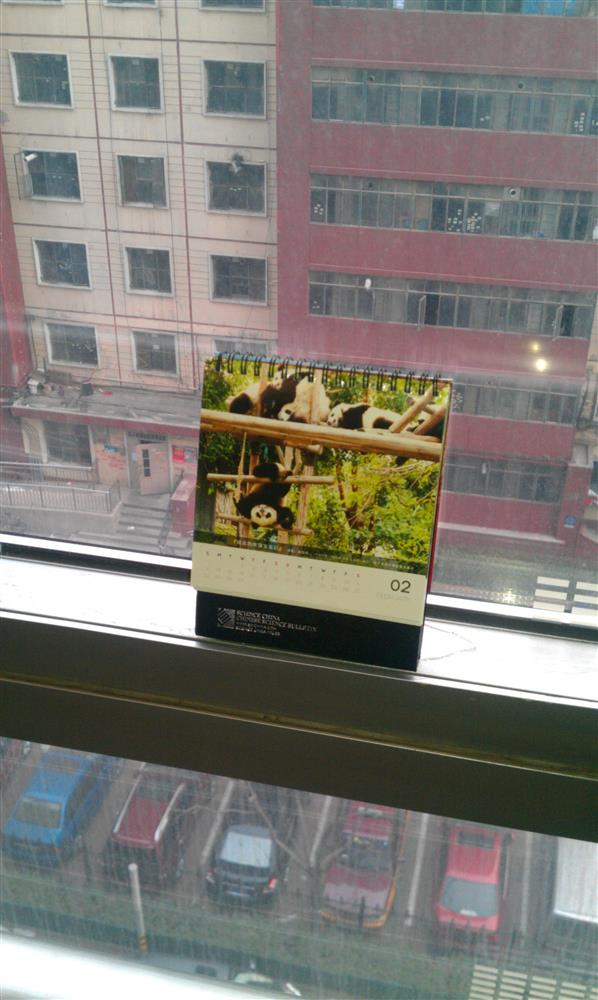panda_calendar: (183, 351, 458, 680)
